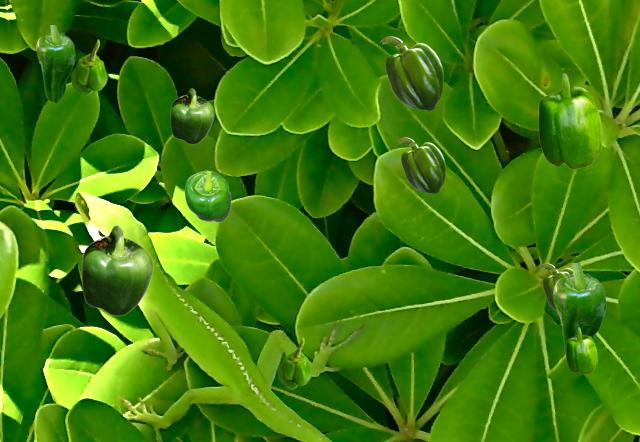bell_pepper: (81, 225, 152, 315), (538, 73, 601, 168), (553, 263, 605, 357), (380, 36, 442, 109), (36, 25, 74, 102), (397, 137, 444, 192), (170, 88, 213, 143), (184, 170, 230, 221), (71, 39, 106, 94), (278, 337, 310, 388), (539, 263, 571, 311), (566, 327, 596, 373)
